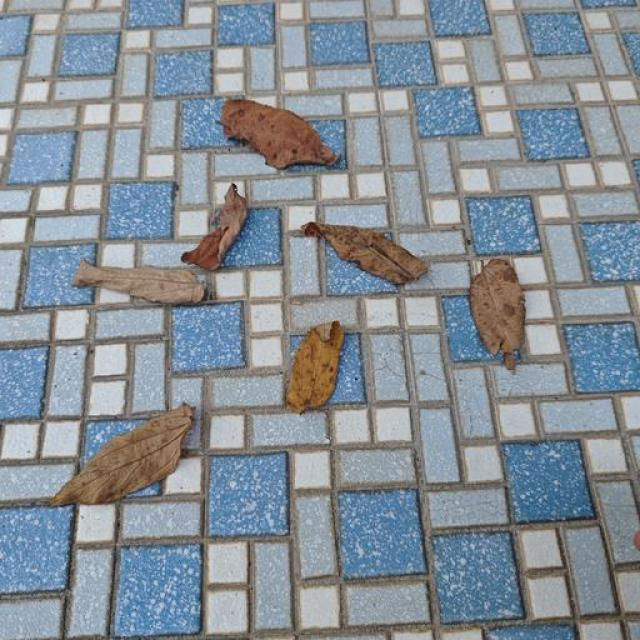organic: (52, 404, 192, 504), (222, 100, 338, 168), (303, 223, 427, 283), (470, 259, 524, 369), (182, 184, 247, 271), (73, 260, 204, 303), (287, 322, 343, 412)
